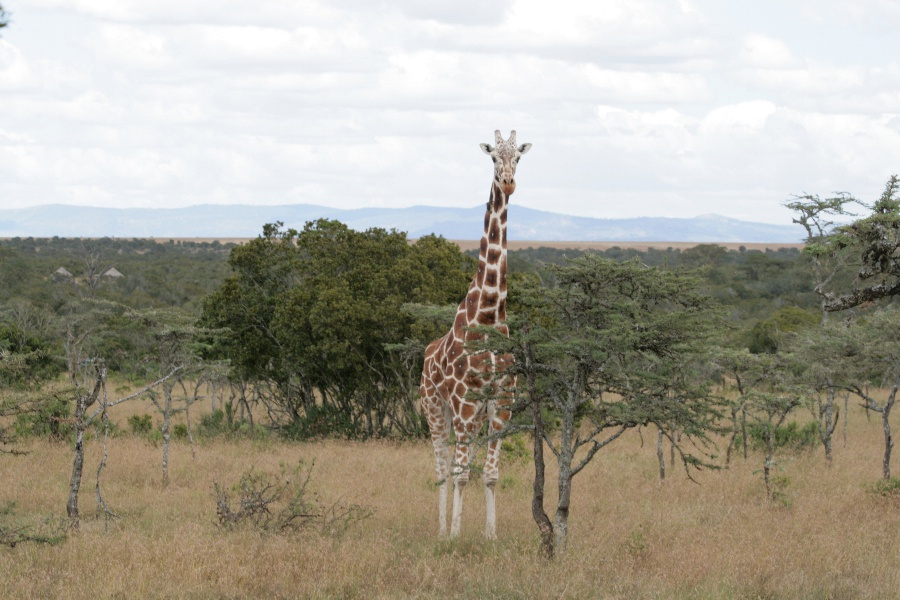giraffe: (416, 118, 540, 552)
